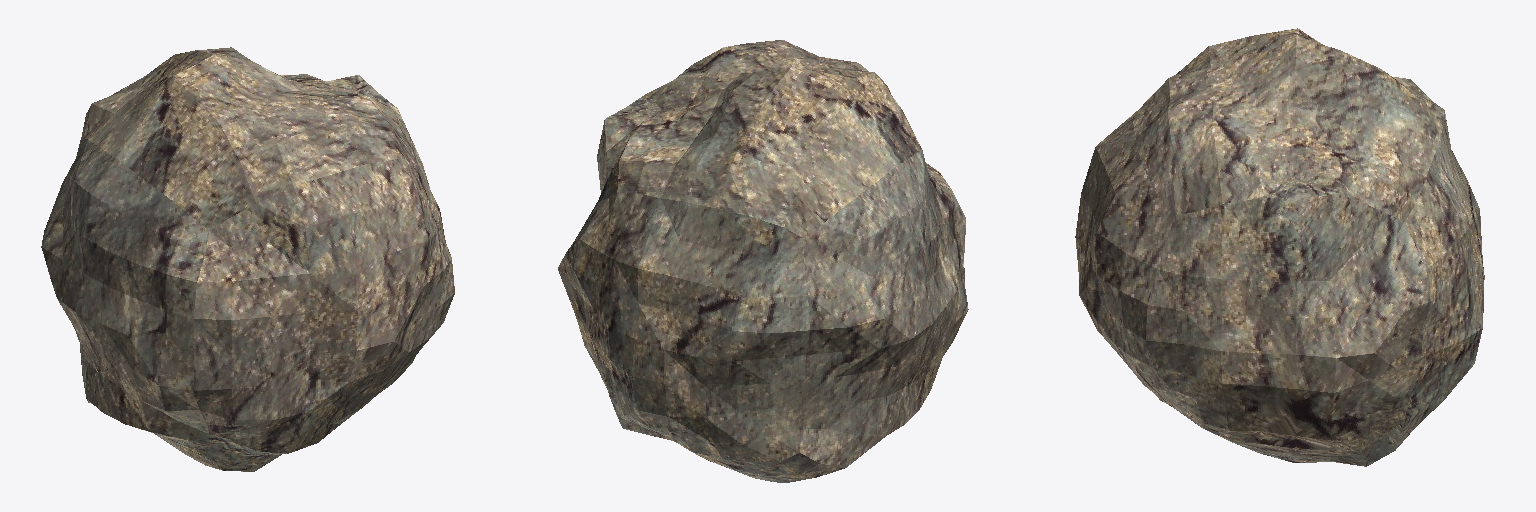
The picture shows the model from 3 angles: view 1: azimuth 30°, elevation 25°; view 2: azimuth 150°, elevation 25°; view 3: azimuth 270°, elevation 25°; orthographic projection.
Parts seen in each view (by area): view 1: Cube; view 2: Cube; view 3: Cube.
Part boxes in pixels (x1,y1,x2,y2): Cube: (41, 47, 454, 471); Cube: (558, 40, 968, 482); Cube: (1075, 28, 1484, 466).
Size of the model in its own units: 0.9679 by 1.09 by 0.9952.
Materials: 1 (1 with a texture image).